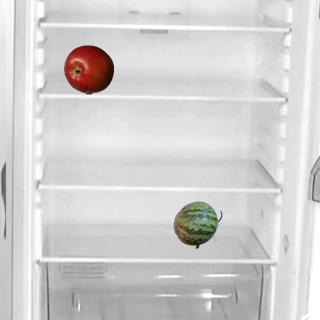Apple Braeburn: (63, 44, 113, 94)
Watermelon: (172, 199, 222, 249)
